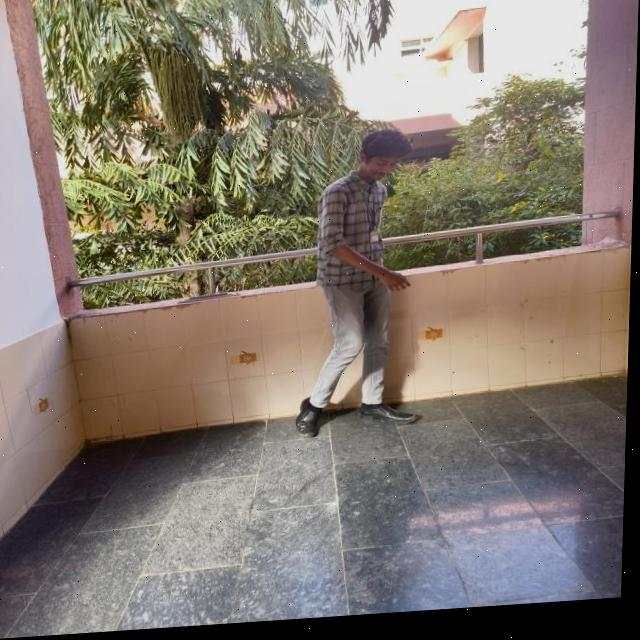id_card: (359, 192, 387, 254)
